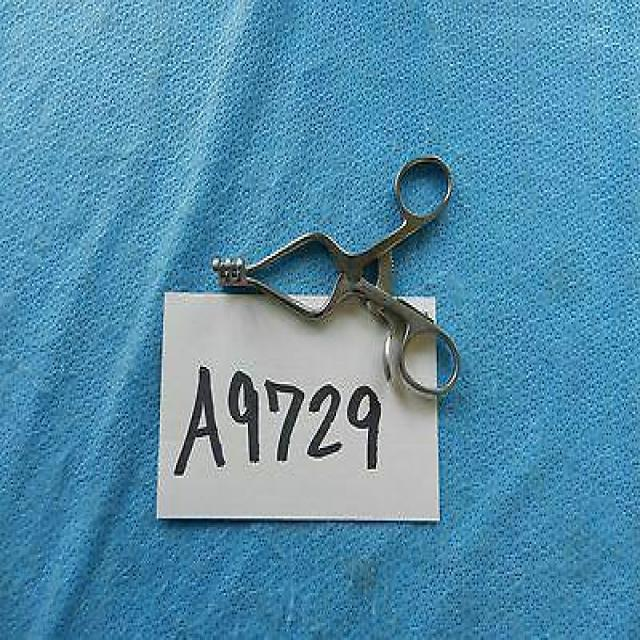Weitlaner: (208, 152, 464, 408)
